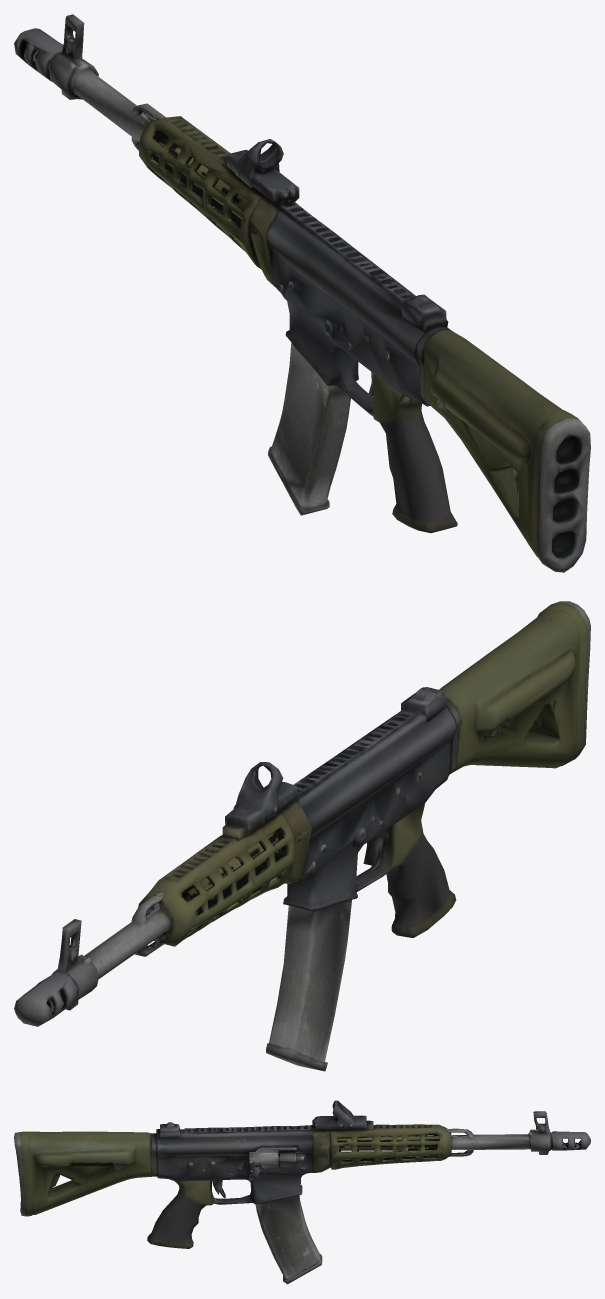
File: rifle.glb
3 renders of one model, top to bottom at view 1: azimuth 30°, elevation 25°; view 2: azimuth 150°, elevation 25°; view 3: azimuth 270°, elevation 25°, orthographic. The views are drawn at different scales.
Visible parts, largest first — view 1: RODIN_rifle_game; view 2: RODIN_rifle_game; view 3: RODIN_rifle_game.
Part boxes in pixels (left/top/right/bottom): RODIN_rifle_game: left=14, top=14, right=590, bottom=572; RODIN_rifle_game: left=14, top=601, right=590, bottom=1071; RODIN_rifle_game: left=14, top=1100, right=590, bottom=1284.
Bounding box in the file's own units: 0.0703 × 0.3158 × 0.92.
Materials: 1 (1 with a texture image).
